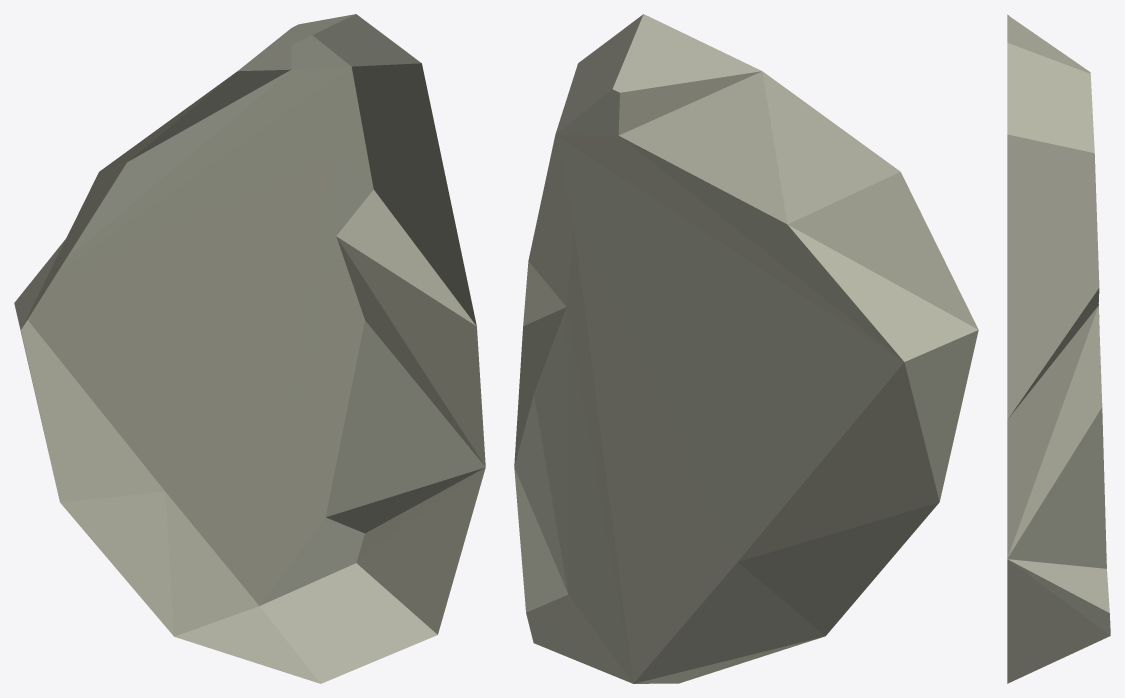
Rendered from Rock Step 01.FBX.
3 renders of one model, left to right at view 1: azimuth 30°, elevation 25°; view 2: azimuth 150°, elevation 25°; view 3: azimuth 270°, elevation 25°, orthographic. The views are drawn at different scales.
Visible parts, largest first — view 1: Rock Step 01; view 2: Rock Step 01; view 3: Rock Step 01.
Boxes of the visible parts, x1,y1,x2,y2 form: Rock Step 01: [14, 14, 485, 683]; Rock Step 01: [514, 14, 978, 683]; Rock Step 01: [1007, 14, 1110, 683].
Size of the model in its own units: 115 by 23.63 by 157.
